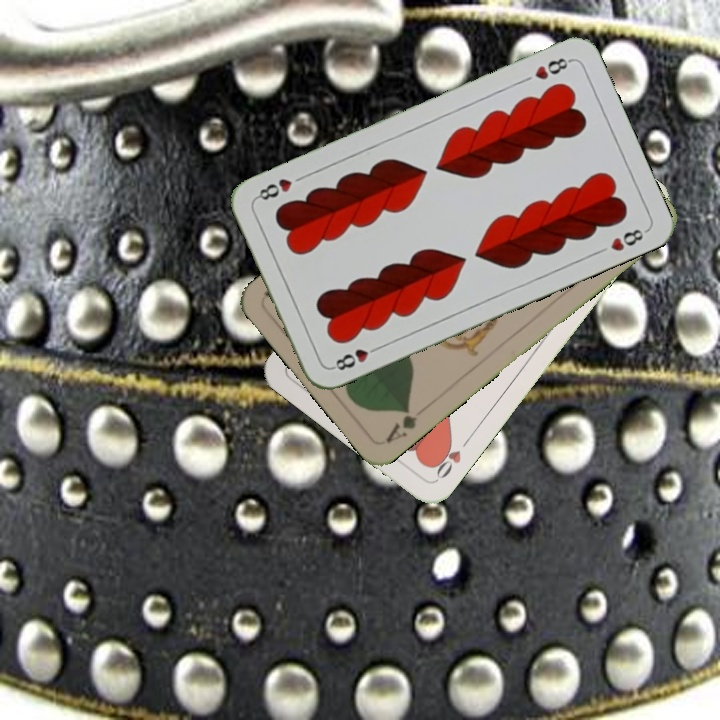GA: (381, 404, 420, 447)
H8: (328, 341, 384, 373), (530, 53, 574, 83)
HO: (427, 432, 474, 483)
